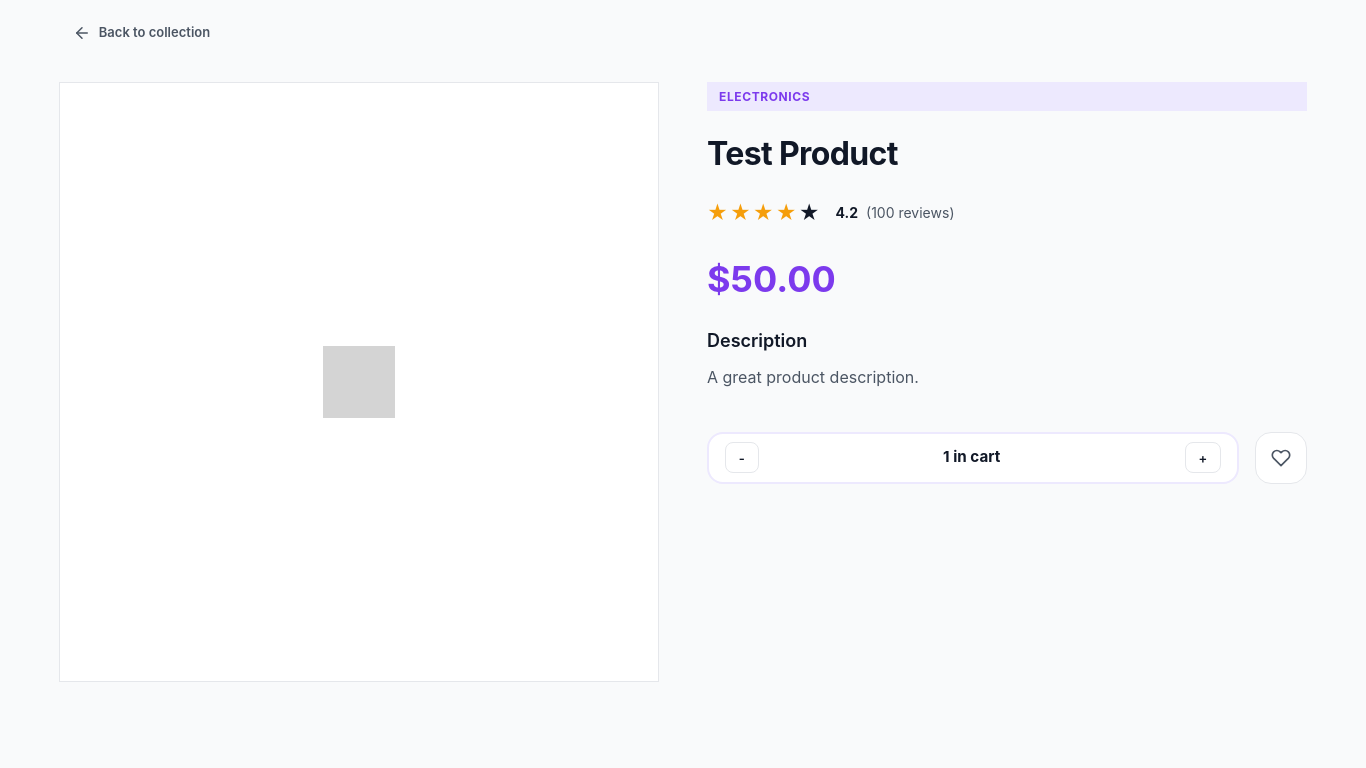
Scenario: ProductView › shows "Removed from cart" feedback when last item is removed
The image size is (1366, 768).
# Decrease quantity from 1 to 0
Click the button named "Decrease quantity" at (742, 458), box [725,442,759,473]
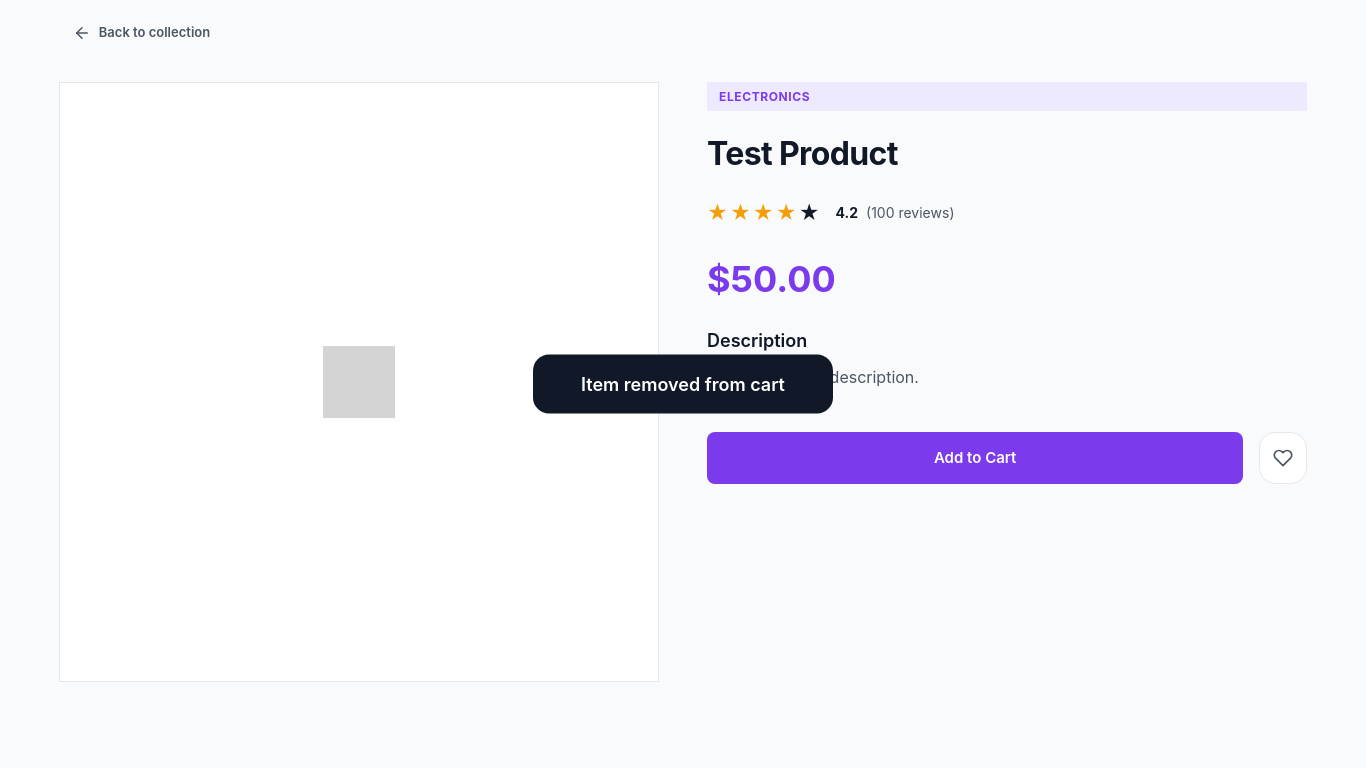
Check: the button with test id "add-to-cart-btn" reads "Add to Cart", box [707,432,1243,484]
Check: the text "Item removed from cart" is shown, box [533,354,833,414]
